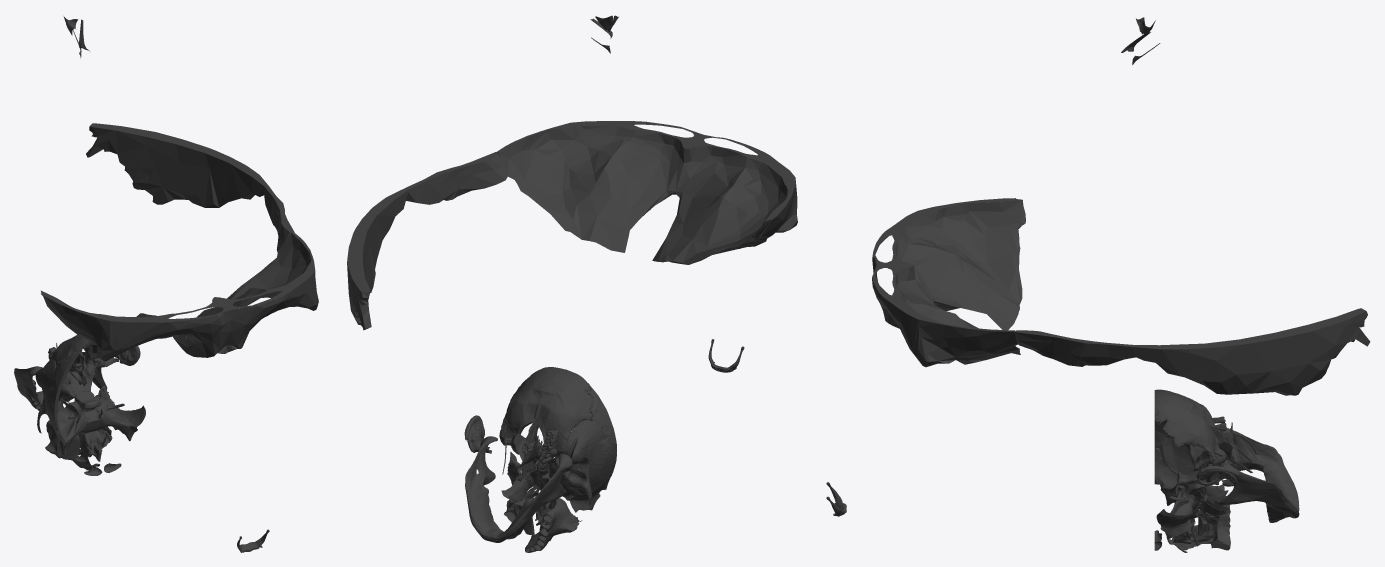
The model's file is sharedassets90.glb.
3 views of the same model, side by side, from view 1: azimuth 30°, elevation 25°; view 2: azimuth 150°, elevation 25°; view 3: azimuth 270°, elevation 25° (orthographic). The views are drawn at different scales.
Parts seen in each view (by area): view 1: 0026_Frontal__001097, 0112_Parietal, L__001094, 0004_Sphenoid__001143, 0010_Occipital__001132, 0006_Temporal, L__001110, 0079_Mandible_body_001091, 0073_Maxilla, R_body_001078_004, 0109_Parietal, R__001095, 0084_Auricular _ear_ cartilage, R__301727, 0048_Ethmoid__001135; view 2: 0026_Frontal__001097, 0112_Parietal, L__001094, 0010_Occipital__001132, 0079_Mandible_body_001091, 0006_Temporal, L__001110, 0004_Sphenoid__001143, 0073_Maxilla, R_body_001078_004, 0109_Parietal, R__001095, 0084_Auricular _ear_ cartilage, R__301727; view 3: 0026_Frontal__001097, 0112_Parietal, L__001094, 0079_Mandible_body_001091, 0010_Occipital__001132, 0004_Sphenoid__001143, 0006_Temporal, L__001110, 0084_Auricular _ear_ cartilage, R__301727, 0089_Maxilla, L_ body_001063_004.
Part boxes in pixels (bbox=[...]): 0026_Frontal__001097: bbox=[41, 232, 318, 360]; 0112_Parietal, L__001094: bbox=[86, 123, 294, 252]; 0004_Sphenoid__001143: bbox=[55, 385, 145, 456]; 0010_Occipital__001132: bbox=[49, 335, 129, 395]; 0006_Temporal, L__001110: bbox=[35, 359, 75, 433]; 0079_Mandible_body_001091: bbox=[14, 352, 107, 410]; 0073_Maxilla, R_body_001078_004: bbox=[45, 420, 92, 468]; 0109_Parietal, R__001095: bbox=[51, 348, 78, 446]; 0084_Auricular _ear_ cartilage, R__301727: bbox=[105, 346, 140, 366]; 0048_Ethmoid__001135: bbox=[78, 430, 102, 457]; 0026_Frontal__001097: bbox=[497, 121, 797, 264]; 0112_Parietal, L__001094: bbox=[347, 152, 507, 330]; 0010_Occipital__001132: bbox=[499, 367, 593, 469]; 0079_Mandible_body_001091: bbox=[465, 436, 572, 542]; 0006_Temporal, L__001110: bbox=[549, 420, 616, 506]; 0004_Sphenoid__001143: bbox=[501, 452, 609, 512]; 0073_Maxilla, R_body_001078_004: bbox=[525, 498, 579, 552]; 0109_Parietal, R__001095: bbox=[585, 388, 616, 489]; 0084_Auricular _ear_ cartilage, R__301727: bbox=[464, 415, 491, 453]; 0026_Frontal__001097: bbox=[872, 198, 1025, 367]; 0112_Parietal, L__001094: bbox=[1014, 308, 1370, 395]; 0079_Mandible_body_001091: bbox=[1218, 428, 1299, 522]; 0010_Occipital__001132: bbox=[1154, 389, 1226, 470]; 0004_Sphenoid__001143: bbox=[1156, 463, 1228, 539]; 0006_Temporal, L__001110: bbox=[1158, 433, 1204, 474]; 0084_Auricular _ear_ cartilage, R__301727: bbox=[1196, 465, 1238, 486]; 0089_Maxilla, L_ body_001063_004: bbox=[1172, 504, 1230, 550].
Bounding box in the file's own units: 0.184 × 0.2922 × 0.2795.
Materials: 1 (1 with a texture image).
